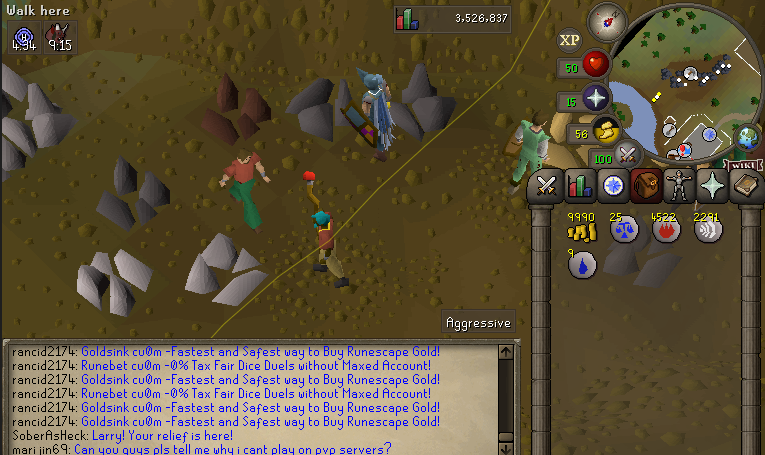depleted: (376, 53, 465, 147), (87, 150, 182, 233), (290, 68, 365, 148)
iron: (195, 70, 279, 154)
